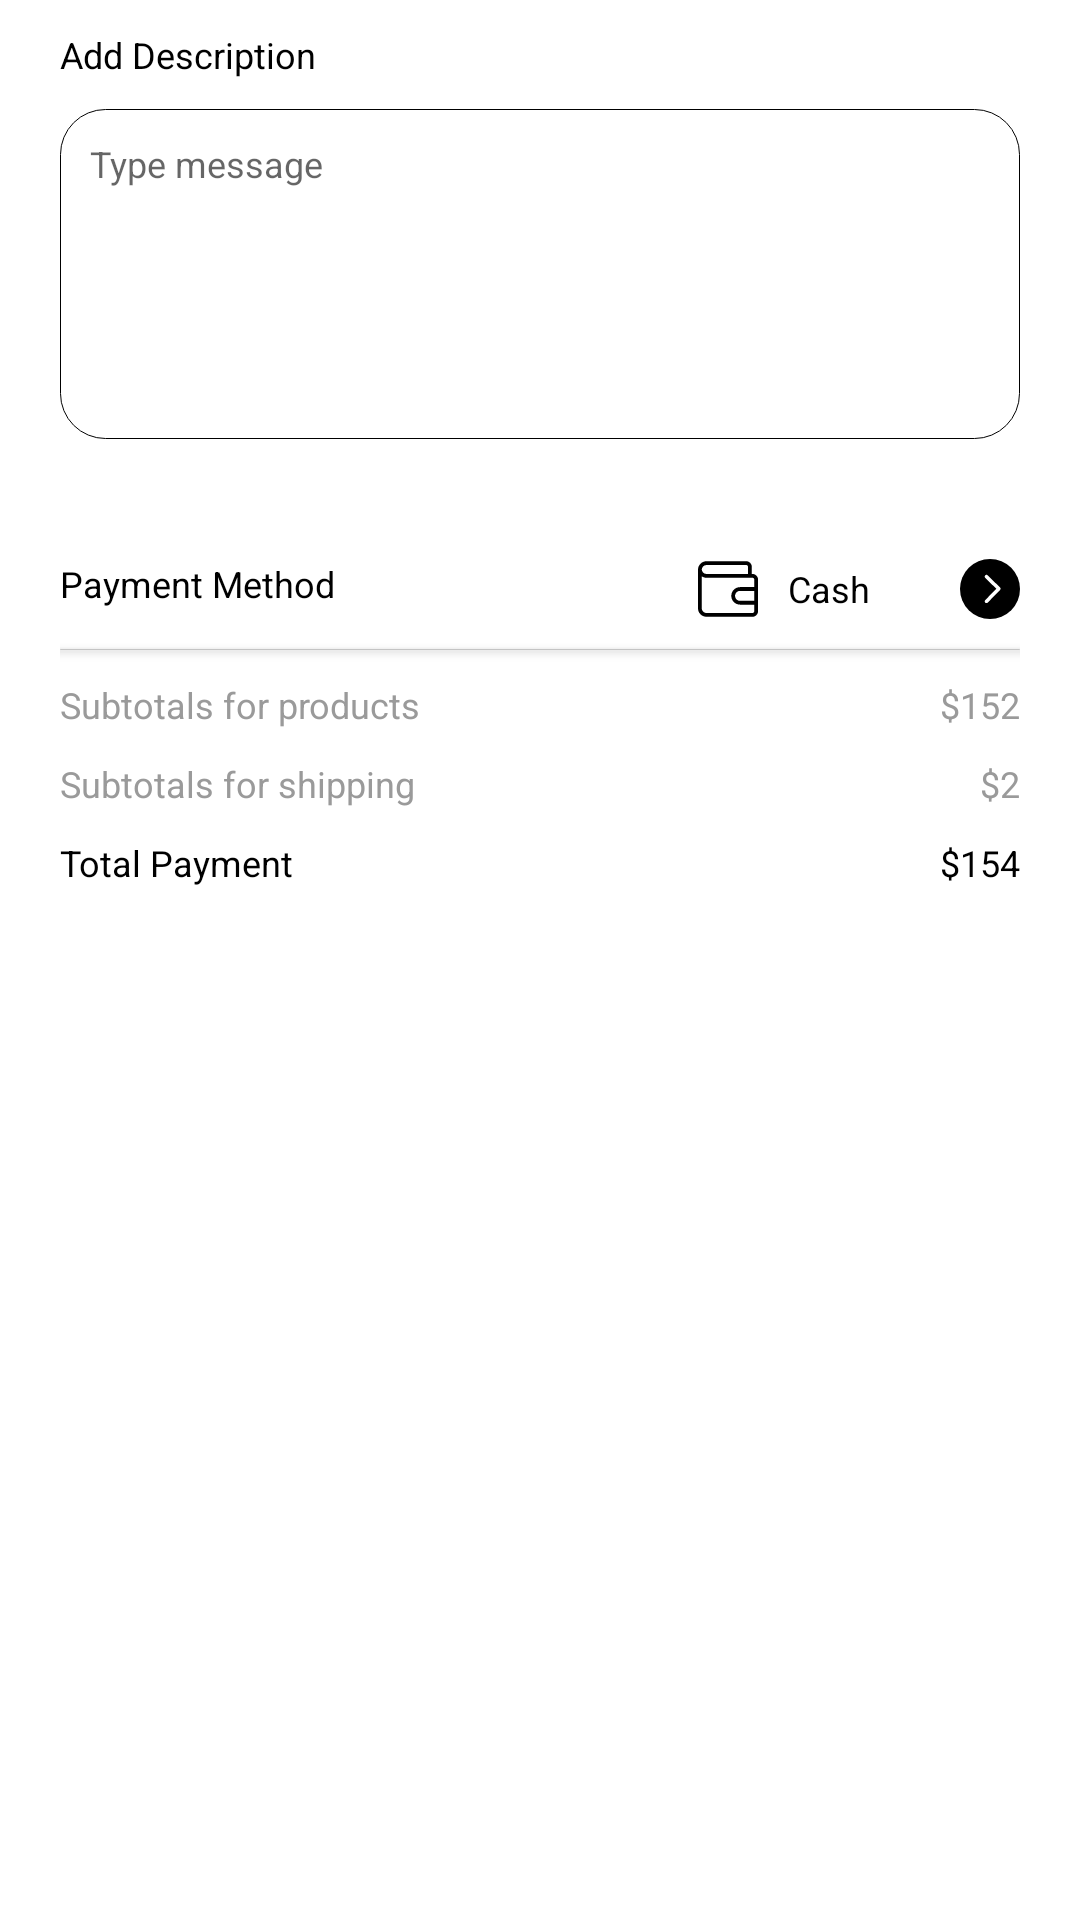

Where icons sit on this 1080px×1920px app screen, as box=[x1, y1, x2, y2]:
next: box=[960, 559, 1020, 619]
purse: box=[698, 561, 758, 617]
